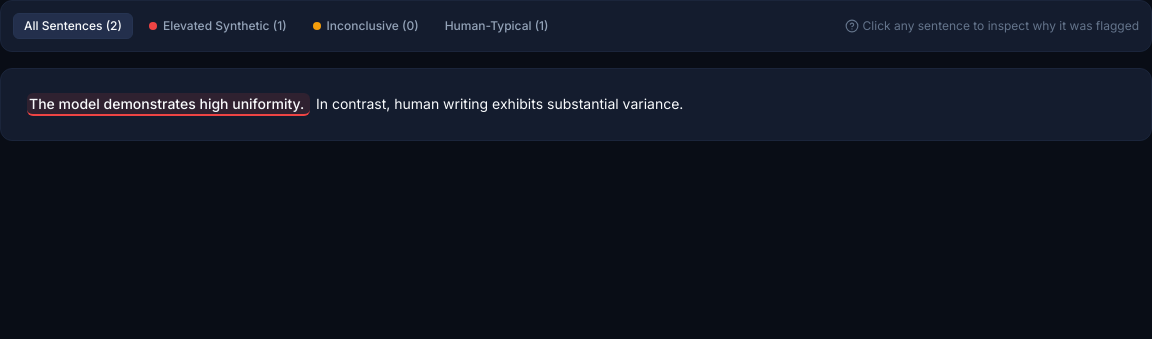
Test: SentenceHeatmap component › renders sentences and opens sentence detail popover on click
Expected: the button "In contrast, human writing exhibits substantial variance." is shown, [314,93,685,114]
Click first sentence
Click the button "The model demonstrates high uniformity.": x=168, y=104 [27,93,310,116]
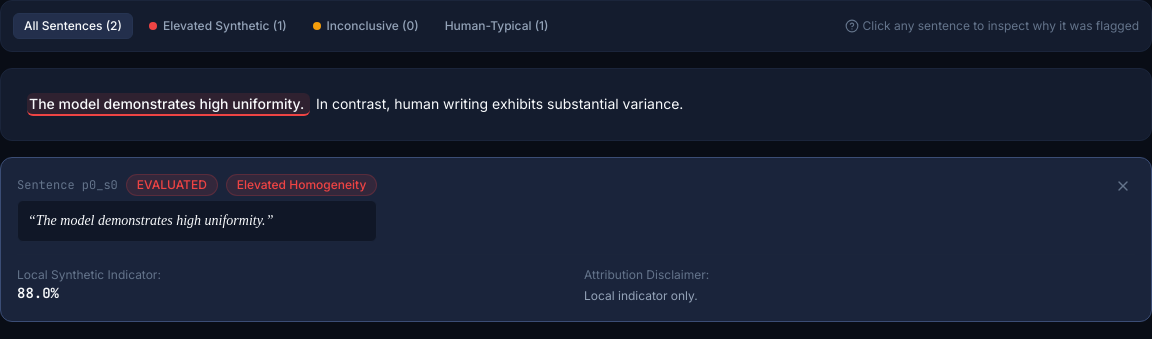
Expected: the element named "Sentence Analysis Inspector" is shown, [0,157,1151,322]
Expected: the text "88.0%" is shown, [17,284,59,302]
Expected: the text "Elevated Homogeneity" is shown, [226,174,377,196]
